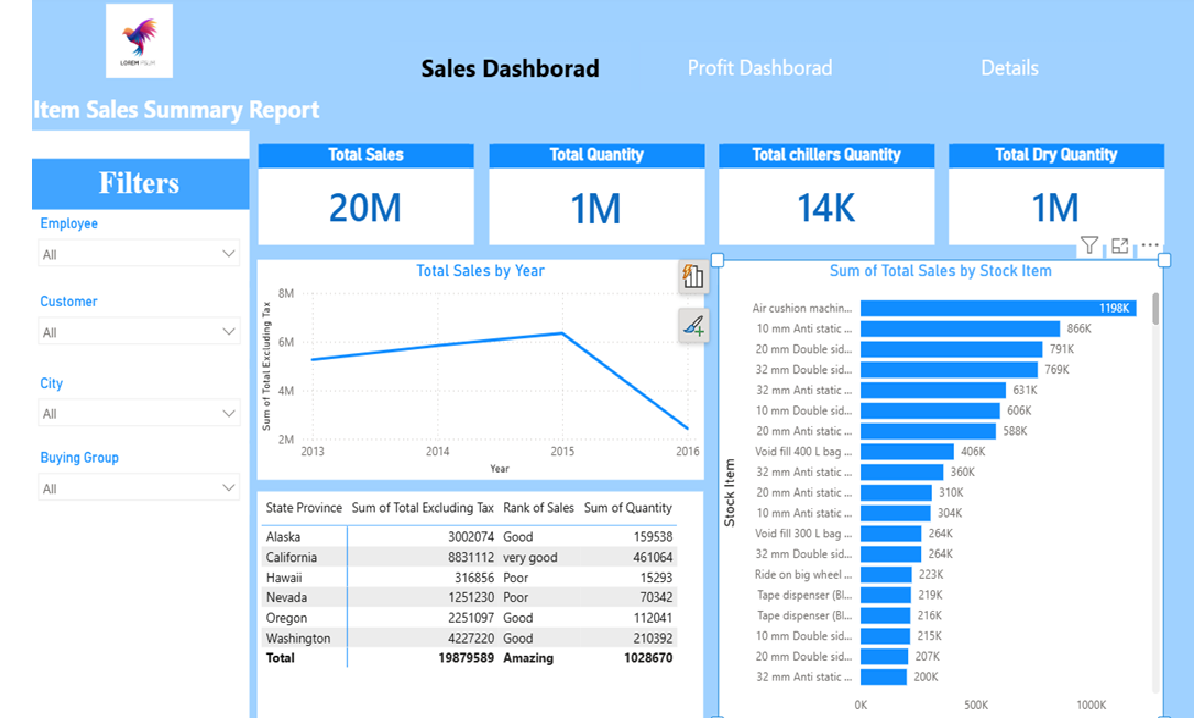

The dashboard page shown, as its layout file describes it:
{"tool":"powerbi","page":{"name":"Sales Dashborad","canvas":[1280,720],"ordinal":0},"visuals":[{"type":"shape","box":[0,0,1280,133.9],"z":0},{"type":"shape","box":[0,133.9,242.5,586.3],"z":1000},{"type":"textbox","box":[0,91.7,328.2,55.5],"z":2000},{"type":"image","box":[0,8.4,242.5,73.6],"z":3000},{"type":"cardVisual","title":"Total Sales","fields":{"Data":["Sum(FactSale.Total Excluding Tax)"]},"box":[252.1,147.2,236.5,100.1],"z":4000},{"type":"cardVisual","title":"Total Quantity","fields":{"Data":["Sum(FactSale.Quantity)"]},"box":[505.5,147.2,236.5,100.1],"z":5000},{"type":"cardVisual","title":"Total chillers Quantity","fields":{"Data":["Sum(FactSale.Total Chiller Items)"]},"box":[757.6,147.2,236.5,100.1],"z":6000},{"type":"cardVisual","title":"Total Dry Quantity","fields":{"Data":["Sum(FactSale.Total Dry Items)"]},"box":[1009.8,147.2,236.5,100.1],"z":7000},{"type":"textbox","box":[0,161.7,242.5,50.7],"z":8000},{"type":"slicer","title":"Sum of Total Sales by Year","fields":{"Values":["DimEmployee.Employee"]},"box":[0,211.9,242.2,70.6],"z":9000},{"type":"barChart","title":"Sum of Total Sales by Stock Item","fields":{"Y":["Sum(FactSale.Total Excluding Tax)"],"Category":["DimStockItem.Stock Item"]},"box":[756.4,261.8,489.8,458.4],"z":10000},{"type":"pivotTable","title":"Sum of Total Sales by Year","fields":{"Values":["Sum(FactSale.Total Excluding Tax)","FactSale.Rank of Sales","Sum(FactSale.Quantity)"],"Rows":["DimCity.State Province"]},"box":[250.9,491,489.8,229.2],"z":11000},{"type":"lineChart","title":"Total Sales by Year","fields":{"Category":["DimDate.Date.Variation.Date Hierarchy.Year","DimDate.Date.Variation.Date Hierarchy.Quarter","DimDate.Date.Variation.Date Hierarchy.Month","DimDate.Date.Variation.Date Hierarchy.Day"],"Y":["Sum(FactSale.Total Excluding Tax)"]},"box":[251.5,261.5,490.2,217.4],"z":12000},{"type":"slicer","title":"Sum of Total Sales by Year","fields":{"Values":["DimCustomer.Customer"]},"box":[0,289.5,242.5,70],"z":13000},{"type":"slicer","title":"Sum of Total Sales by Year","fields":{"Values":["DimCity.City"]},"box":[0,370.4,242.5,70],"z":14000},{"type":"slicer","title":"Sum of Total Sales by Year","fields":{"Values":["DimCustomer.Buying Group"]},"box":[0,444,242.2,70.6],"z":15000},{"type":"pageNavigator","box":[396.9,45.8,813.1,50.7],"z":16000}]}

Visuals, with their boxes on the page's 1280x720 design canvas (x1, y1, x2, y2). These are canvas units, not pixel positions in the 1194x722 screenshot, which may show the page scaled, cropped or inside an application window:
shape: region(0, 0, 1280, 134)
shape: region(0, 134, 242, 720)
textbox: region(0, 92, 328, 147)
image: region(0, 8, 242, 82)
"Total Sales" cardVisual: region(252, 147, 489, 247)
"Total Quantity" cardVisual: region(506, 147, 742, 247)
"Total chillers Quantity" cardVisual: region(758, 147, 994, 247)
"Total Dry Quantity" cardVisual: region(1010, 147, 1246, 247)
textbox: region(0, 162, 242, 212)
"Sum of Total Sales by Year" slicer: region(0, 212, 242, 282)
"Sum of Total Sales by Stock Item" barChart: region(756, 262, 1246, 720)
"Sum of Total Sales by Year" pivotTable: region(251, 491, 741, 720)
"Total Sales by Year" lineChart: region(252, 262, 742, 479)
"Sum of Total Sales by Year" slicer: region(0, 290, 242, 360)
"Sum of Total Sales by Year" slicer: region(0, 370, 242, 440)
"Sum of Total Sales by Year" slicer: region(0, 444, 242, 515)
pageNavigator: region(397, 46, 1210, 96)
